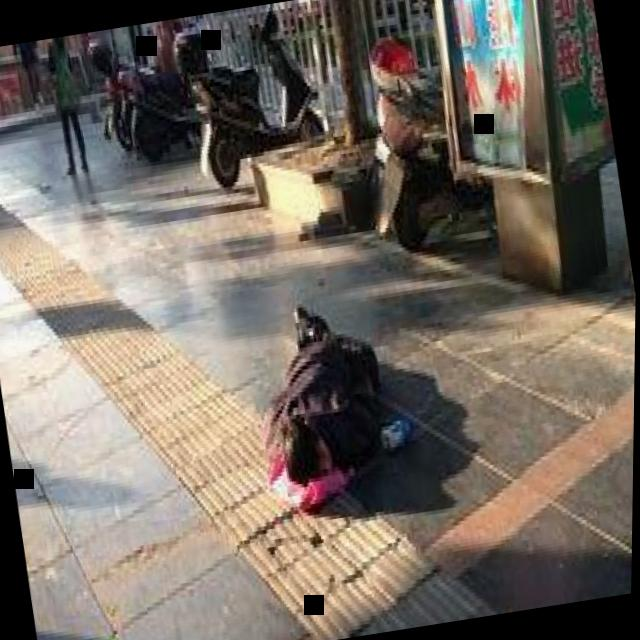Fall-Detected: (225, 259, 437, 520)
